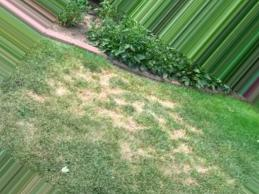patch: (80, 91, 93, 111), (113, 109, 125, 129), (104, 89, 117, 104), (123, 143, 133, 156), (131, 102, 141, 109), (162, 101, 170, 105)
